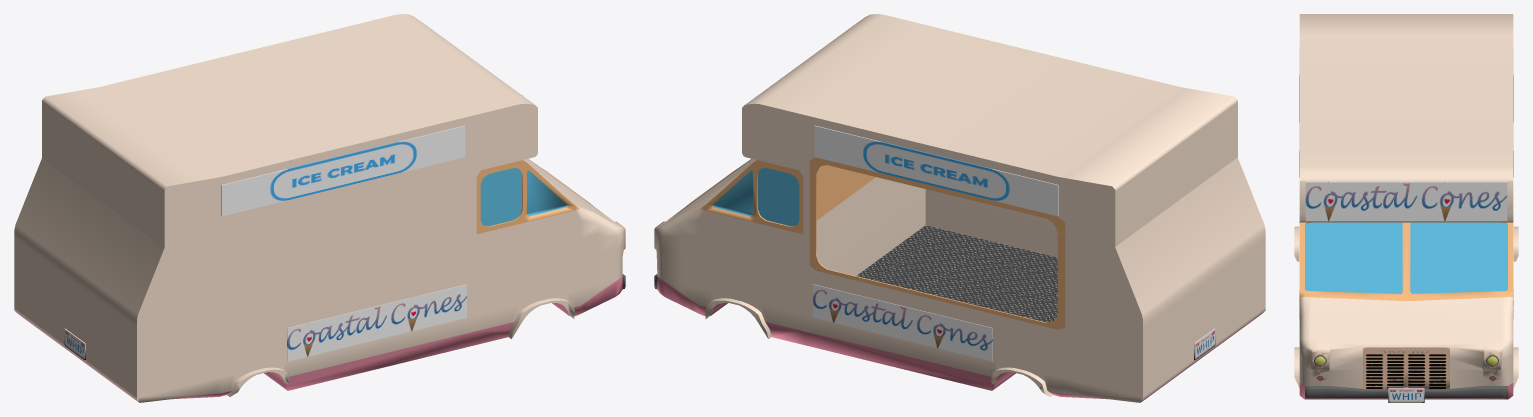
Rendered from Icecream van.fbx.
The picture shows the model from 3 angles, left to right: view 1: azimuth 30°, elevation 25°; view 2: azimuth 150°, elevation 25°; view 3: azimuth 270°, elevation 25°; orthographic projection. The views are drawn at different scales.
Visible parts, largest first — view 1: Cube; view 2: Cube; view 3: Cube.
Part boxes in pixels (x1=…): Cube: x1=14, y1=14, x2=625, y2=402; Cube: x1=654, y1=14, x2=1265, y2=402; Cube: x1=1294, y1=14, x2=1518, y2=402.
Size of the model in its own units: 713 by 324 by 319.
